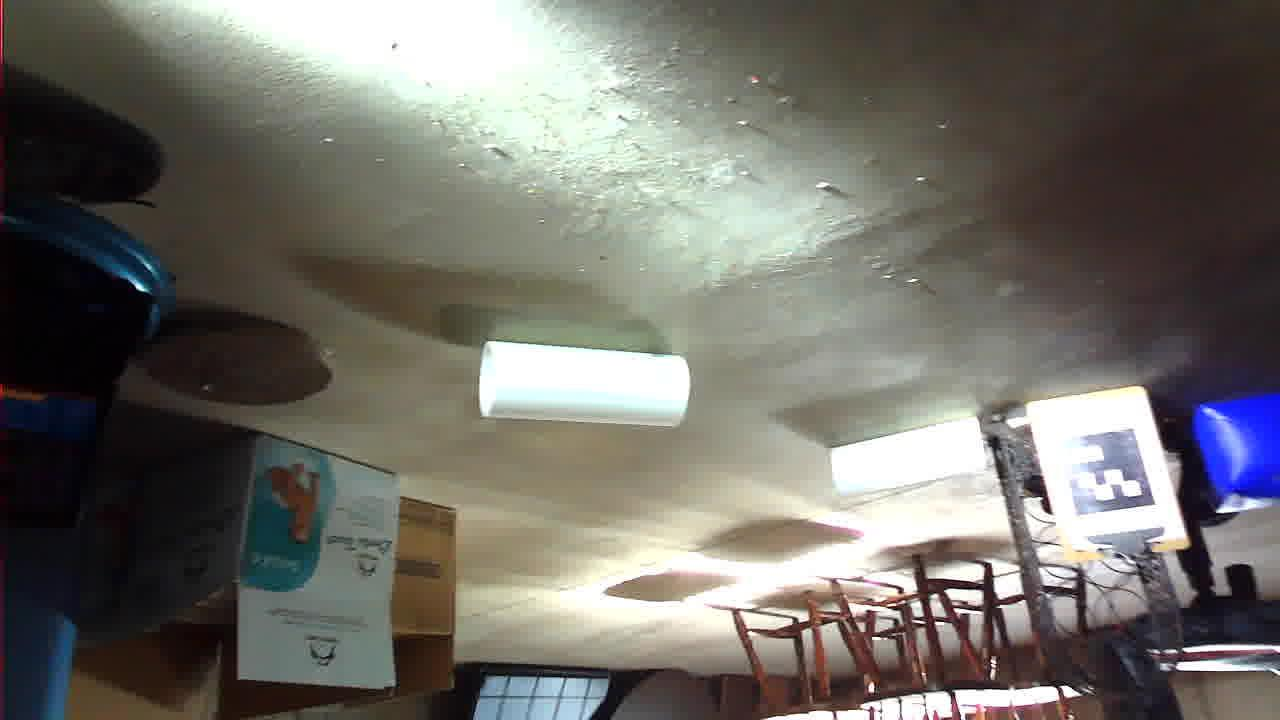coral: (589, 294, 800, 379)
